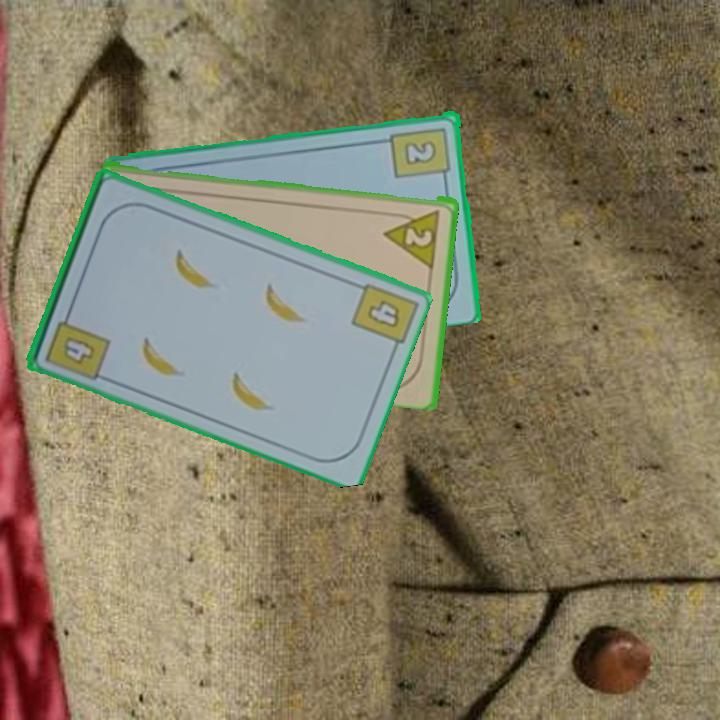2b: (388, 123, 454, 185)
2p: (402, 222, 436, 249)
4b: (41, 305, 113, 383), (364, 296, 404, 331)
